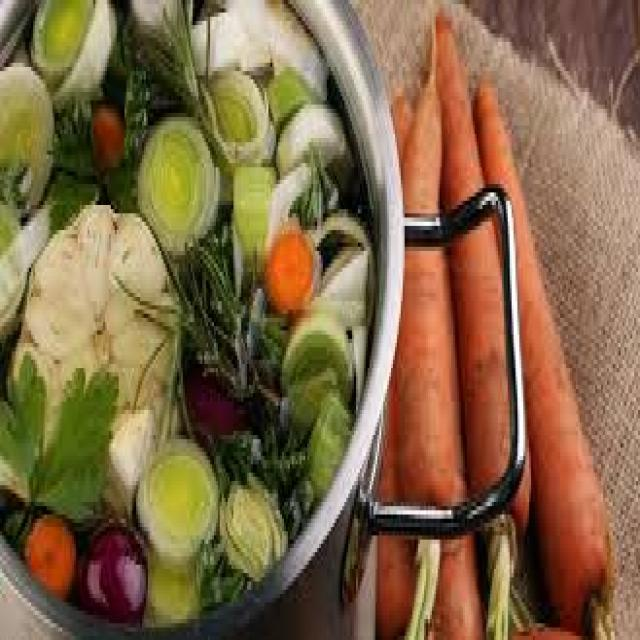Organik: (0, 0, 371, 640), (373, 1, 620, 640)
